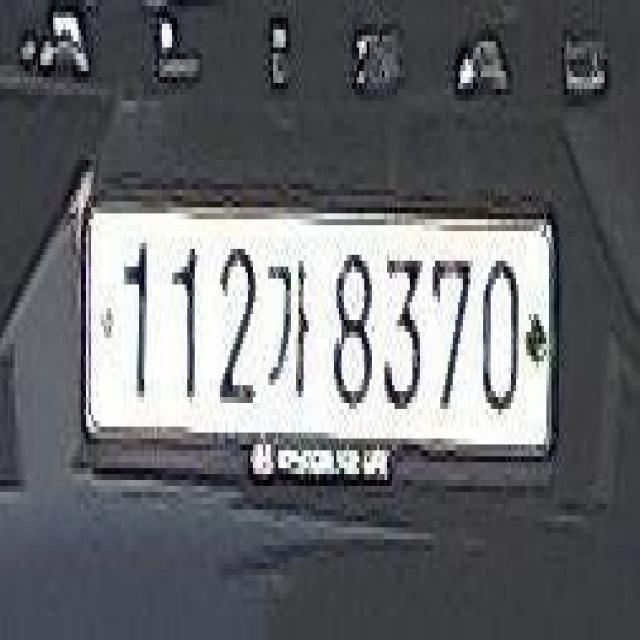illegal_plate: (82, 183, 559, 504)
